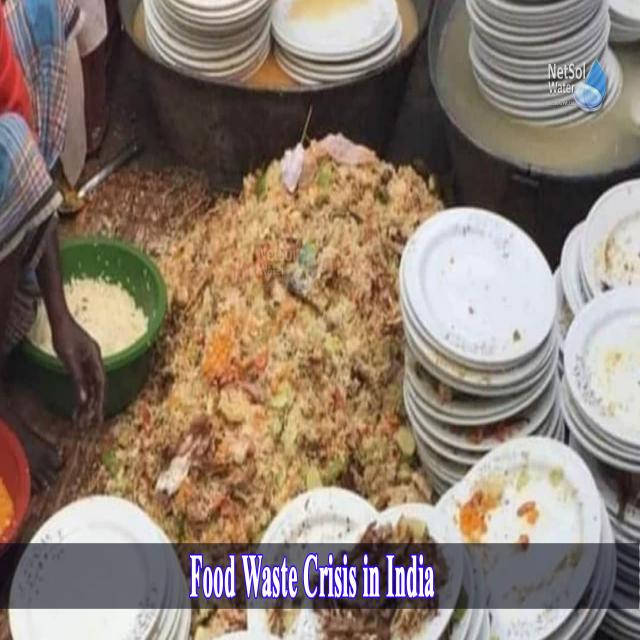Food -Biodegradable-: (106, 144, 433, 544)
